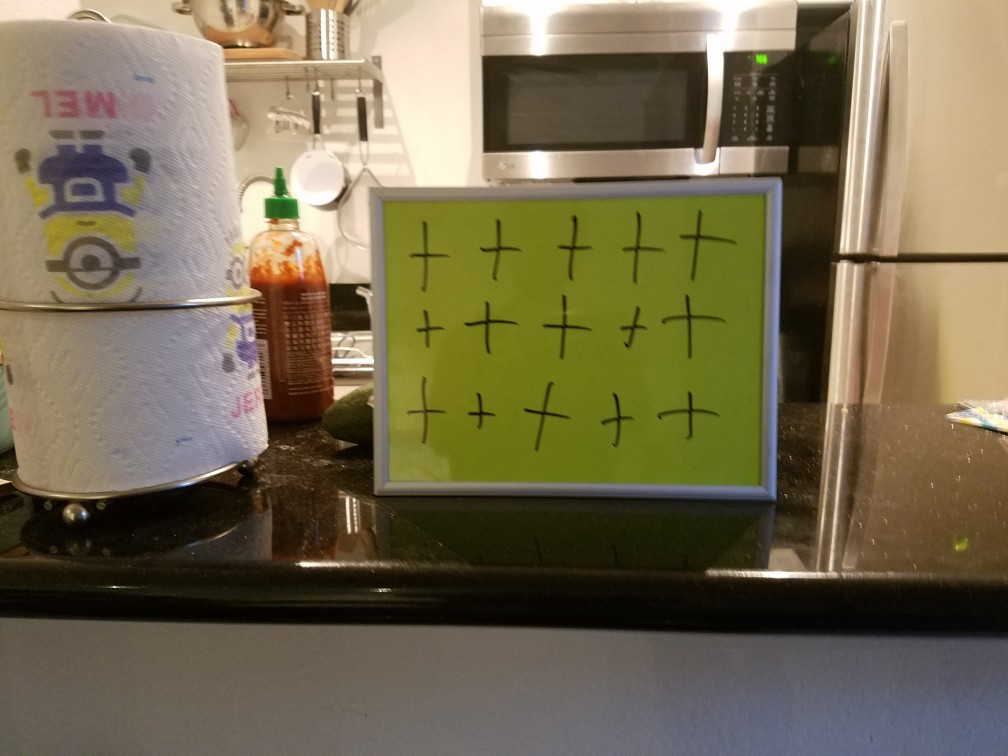+: (653, 383, 730, 456), (457, 299, 523, 376), (660, 288, 725, 365), (679, 206, 739, 287), (615, 207, 669, 288), (544, 289, 594, 374), (550, 209, 603, 286), (475, 213, 526, 291), (403, 374, 450, 457), (524, 376, 571, 459), (409, 216, 450, 298), (598, 385, 639, 453), (618, 298, 651, 356), (413, 309, 448, 360), (468, 387, 499, 438)
